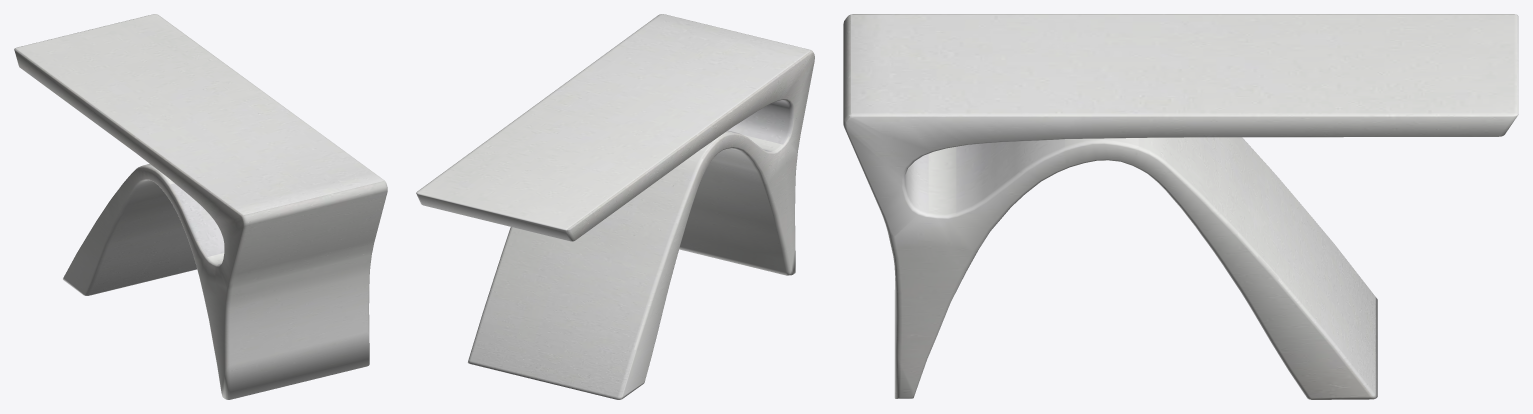
The model's file is mesa-moderna.glb.
3 renders of one model, left to right at view 1: azimuth 30°, elevation 25°; view 2: azimuth 150°, elevation 25°; view 3: azimuth 270°, elevation 25°, orthographic. The views are drawn at different scales.
Visible parts, largest first — view 1: Material_001-material; view 2: Material_001-material; view 3: Material_001-material.
Part boxes in pixels (box(x1,y1,x2,y2)): Material_001-material: box(14, 14, 387, 399); Material_001-material: box(416, 14, 814, 399); Material_001-material: box(843, 14, 1518, 399).
Bounding box in the file's own units: 0.6574 × 0.8534 × 1.83.
1 material, 1 textured.
